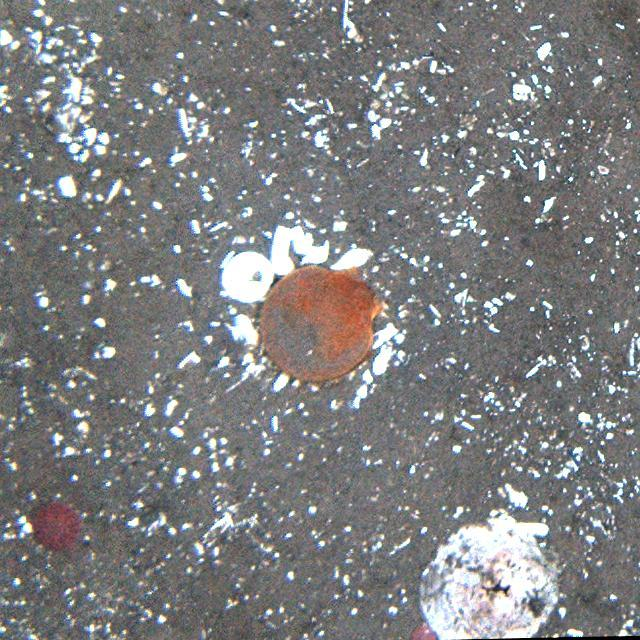scallop: (249, 262, 385, 378)
